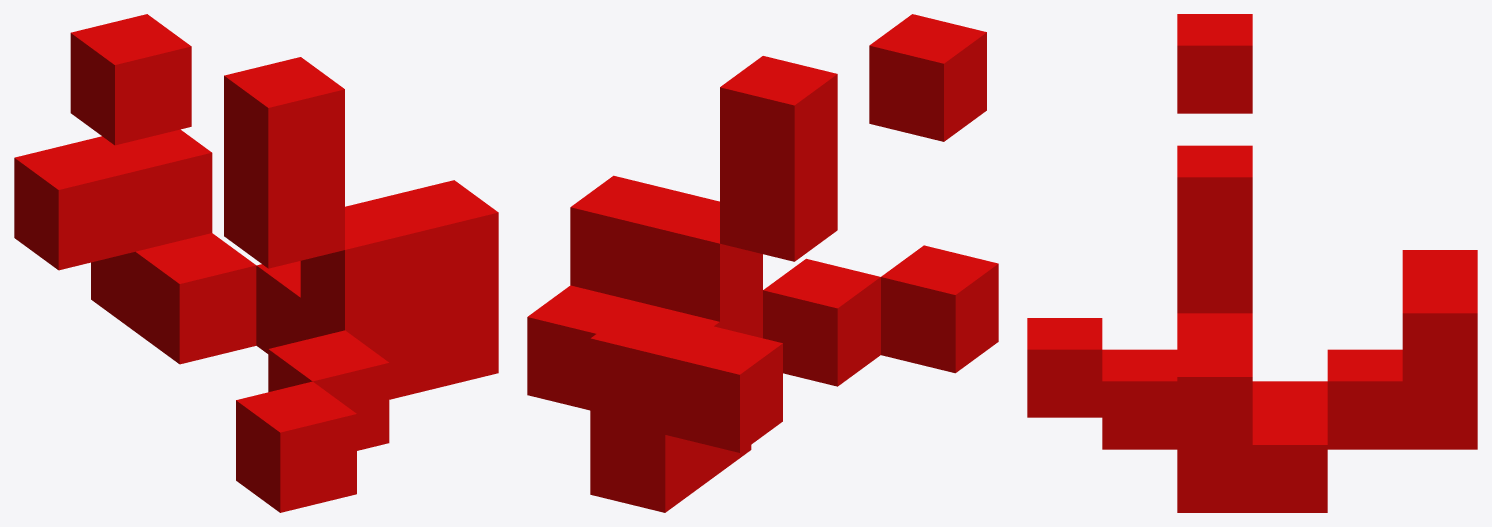
File: mao-0.obj
3 renders of one model, left to right at view 1: azimuth 30°, elevation 25°; view 2: azimuth 150°, elevation 25°; view 3: azimuth 270°, elevation 25°, orthographic. The views are drawn at different scales.
Bounding box in the file's own units: 1 × 1 × 1.2.
Materials: 1 (1 with a texture image).
